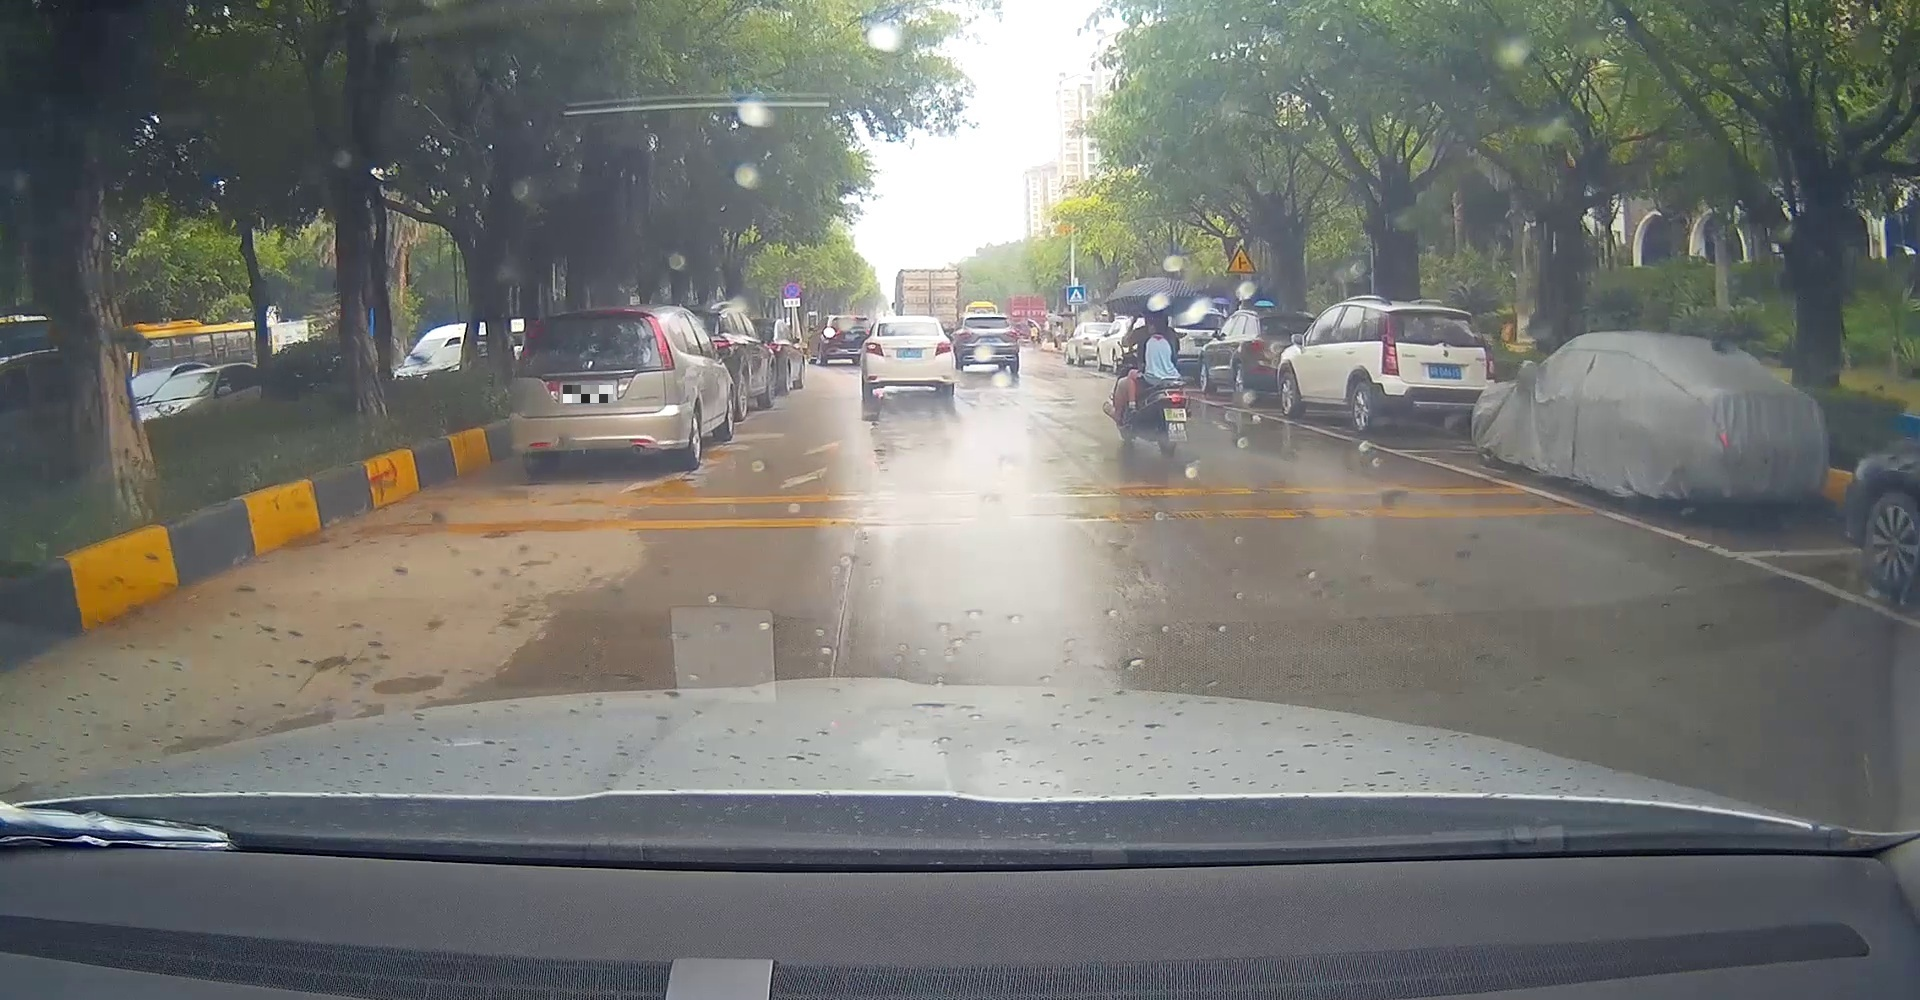L_light: (512, 317, 546, 377), (1382, 311, 1399, 376), (865, 341, 884, 357), (957, 329, 974, 340)
R_light: (636, 311, 676, 369), (1470, 316, 1495, 379), (935, 340, 952, 357), (1002, 329, 1018, 339)
T_light: (577, 311, 604, 315), (1425, 311, 1449, 315), (904, 334, 919, 336), (982, 317, 992, 319)
day-left: (862, 316, 956, 402)
day-no: (508, 306, 687, 475), (1382, 296, 1495, 433), (957, 315, 1020, 373)
plate_1: (563, 385, 613, 404)
